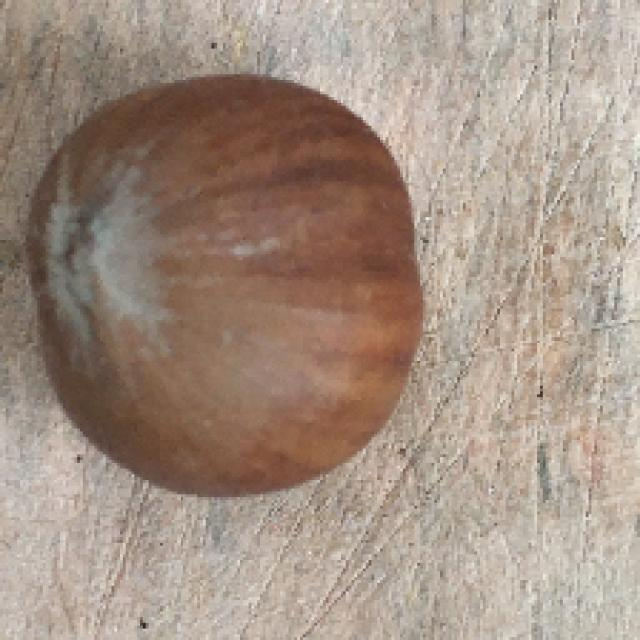qualityHazelnut: (30, 70, 423, 503)
